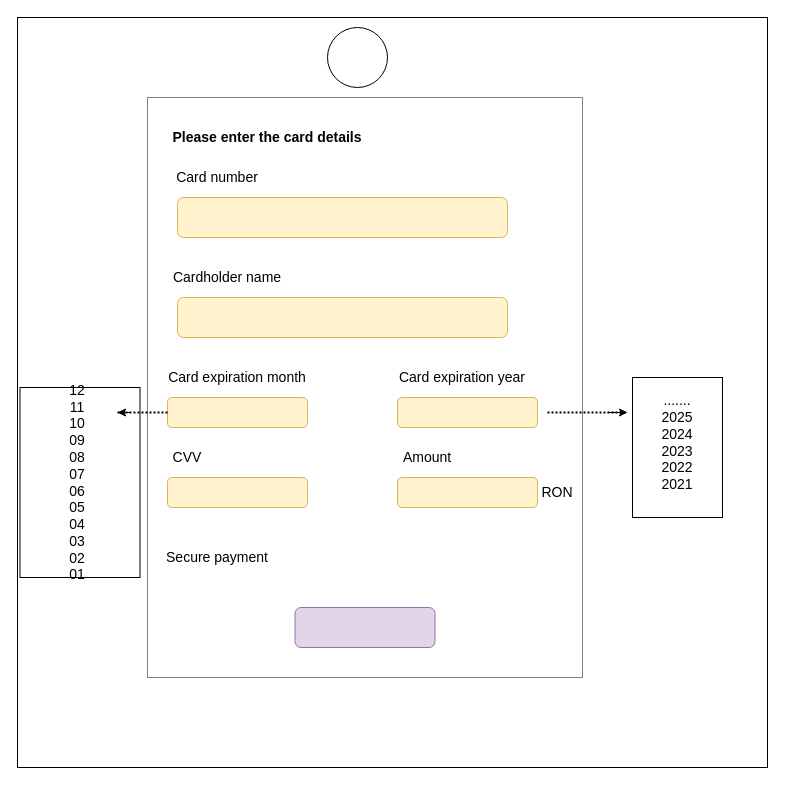
Image size: 785x785. Some labels were removed from this diagram. The shapes that lost their labels are listed below. From the top down, each one's centre as x and y in pixels, then its label:
At (357,57): "logo".
At (364,627): "Pay using this card".
